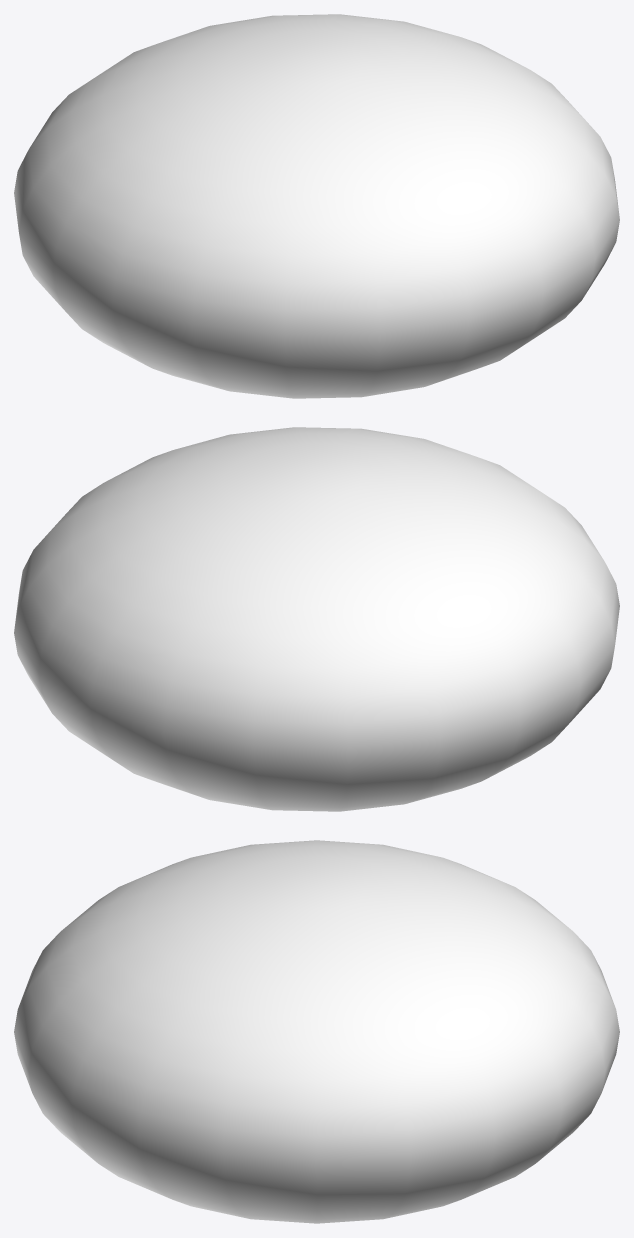
File: SillaArribaRed.obj
3 views of the same model, one above another, from view 1: azimuth 30°, elevation 25°; view 2: azimuth 150°, elevation 25°; view 3: azimuth 270°, elevation 25° (orthographic).
Visible parts, largest first — view 1: pSphere1; view 2: pSphere1; view 3: pSphere1.
Boxes of the visible parts, box(x1,y1,x2,y2) form: pSphere1: box(14, 14, 619, 398); pSphere1: box(14, 427, 619, 811); pSphere1: box(14, 840, 619, 1223).
Size of the model in its own units: 1.14 by 0.5913 by 1.14.
Materials: 1 (1 with a texture image).
